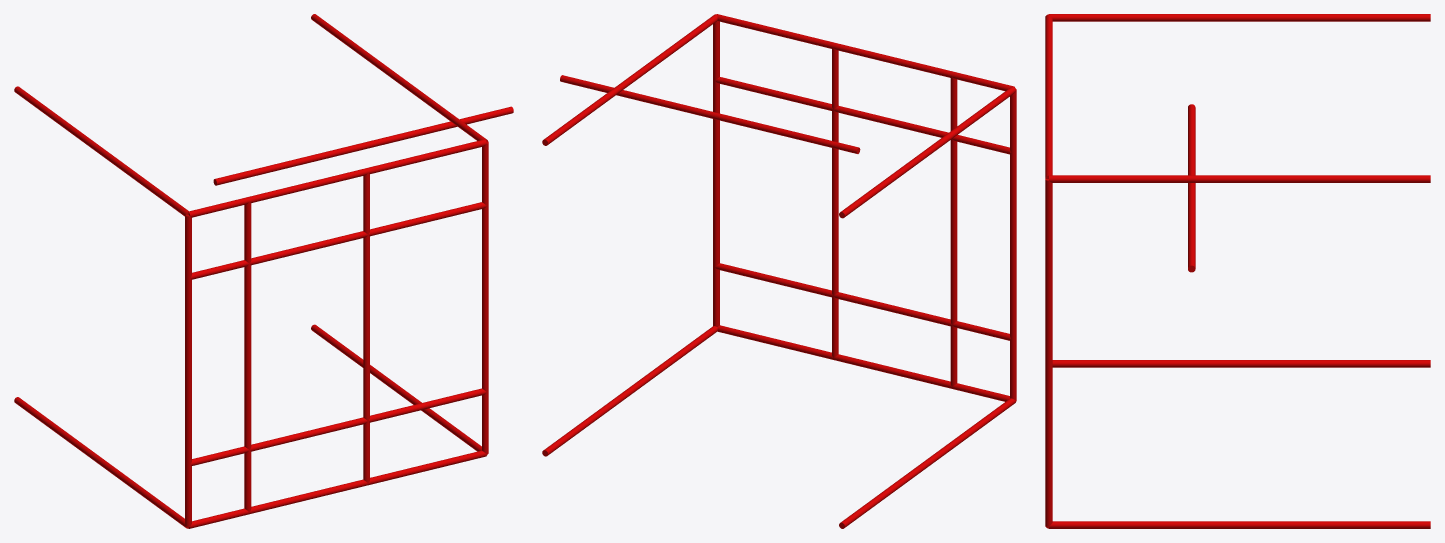
File: world_config_mesh.obj
The picture shows the model from 3 angles, left to right: view 1: azimuth 30°, elevation 25°; view 2: azimuth 150°, elevation 25°; view 3: azimuth 270°, elevation 25°; orthographic projection. The views are drawn at different scales.
Visible parts, largest first — view 1: element_15, element_11, grasp_element, element_8, element_12, element_14, element_10, element_9, element_13, element_5, element_4, element_6 (+1 smaller); view 2: element_15, element_11, grasp_element, element_12, element_8, element_14, element_10, element_13, element_9, element_5, element_4, element_6 (+1 smaller); view 3: element_6, element_7, element_5, element_4, element_9, element_11, grasp_element.
Boxes of the visible parts, x1=… form: element_15: x1=244, y1=202, x2=251, y2=511; element_11: x1=188, y1=139, x2=486, y2=217; grasp_element: x1=213, y1=106, x2=513, y2=185; element_8: x1=188, y1=450, x2=486, y2=528; element_12: x1=190, y1=388, x2=486, y2=465; element_14: x1=190, y1=202, x2=486, y2=279; element_10: x1=185, y1=215, x2=191, y2=526; element_9: x1=482, y1=142, x2=488, y2=454; element_13: x1=363, y1=173, x2=369, y2=483; element_5: x1=14, y1=86, x2=188, y2=216; element_4: x1=14, y1=397, x2=188, y2=528; element_6: x1=311, y1=14, x2=488, y2=141; element_15: x1=950, y1=76, x2=957, y2=386; element_11: x1=716, y1=14, x2=1014, y2=91; grasp_element: x1=560, y1=75, x2=860, y2=153; element_12: x1=715, y1=263, x2=1011, y2=340; element_8: x1=717, y1=325, x2=1009, y2=401; element_14: x1=715, y1=77, x2=1011, y2=154; element_10: x1=1010, y1=89, x2=1016, y2=400; element_13: x1=832, y1=48, x2=838, y2=357; element_9: x1=713, y1=21, x2=719, y2=326; element_5: x1=839, y1=86, x2=1016, y2=218; element_4: x1=839, y1=398, x2=1016, y2=528; element_6: x1=542, y1=14, x2=717, y2=145; element_6: x1=1049, y1=175, x2=1430, y2=182; element_7: x1=1049, y1=521, x2=1430, y2=528; element_5: x1=1049, y1=14, x2=1430, y2=21; element_4: x1=1052, y1=360, x2=1430, y2=367; element_9: x1=1045, y1=179, x2=1052, y2=526; element_11: x1=1045, y1=14, x2=1052, y2=178; grasp_element: x1=1188, y1=104, x2=1195, y2=272.
Size of the model in its own units: 1.32 by 1.02 by 1.01.
